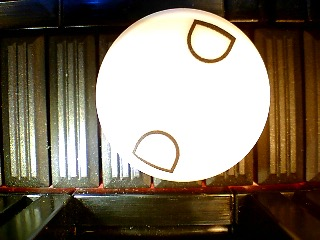MIPO2: (95, 7, 271, 183)
